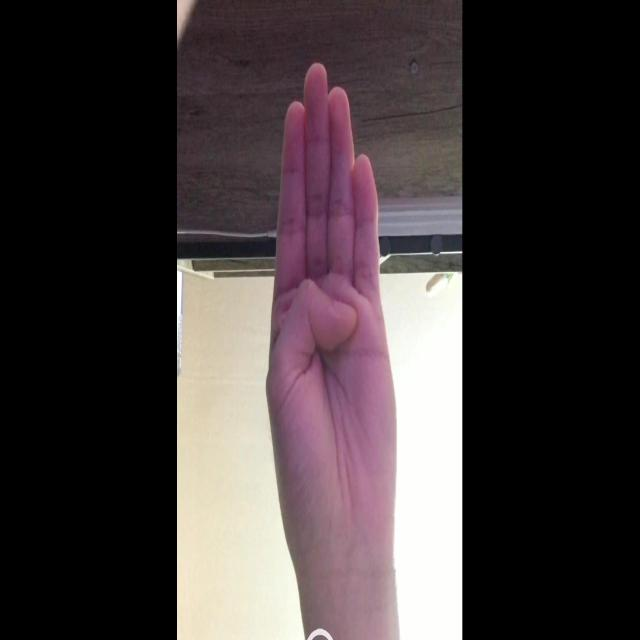B: (262, 62, 398, 539)
